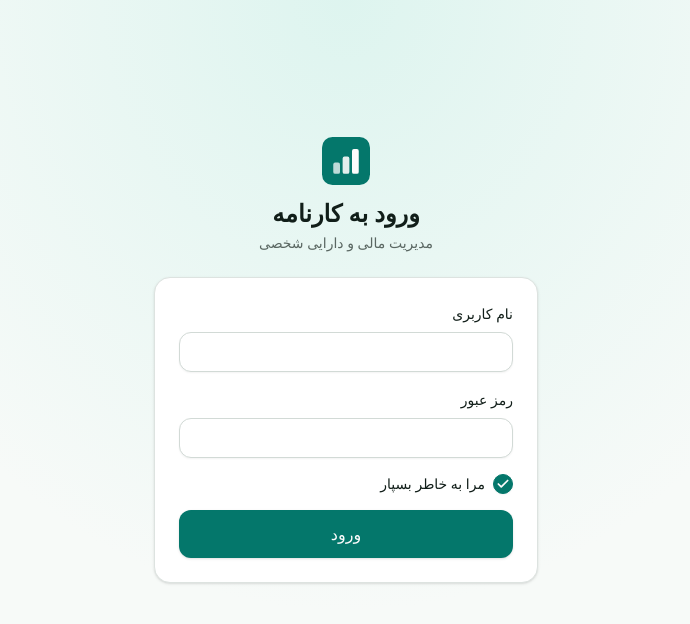
Test: LoginPage › validates required fields in Persian
The width and height of the screenshot is (690, 624).
Click the button "ورود" at (346, 534), box left=179, top=510, right=513, bottom=558
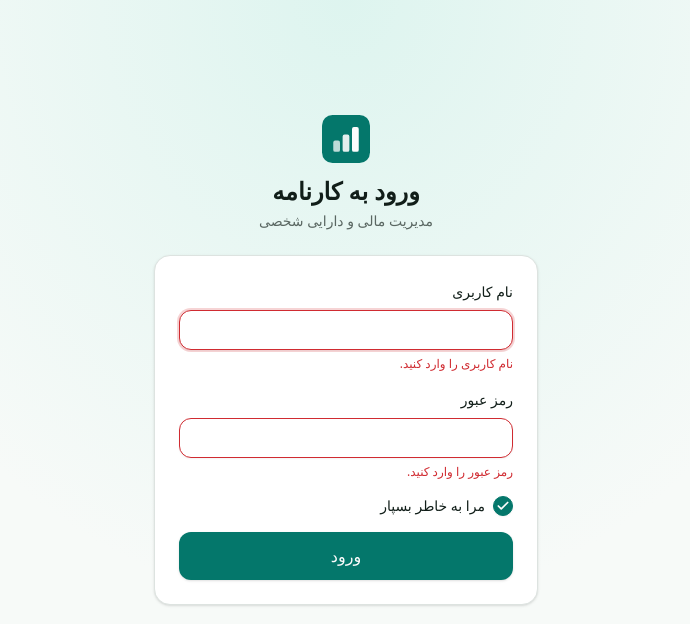
Check: the text "نام کاربری را وارد کنید." is shown, box left=400, top=355, right=513, bottom=372
Check: the text "رمز عبور را وارد کنید." is shown, box left=407, top=463, right=513, bottom=480
